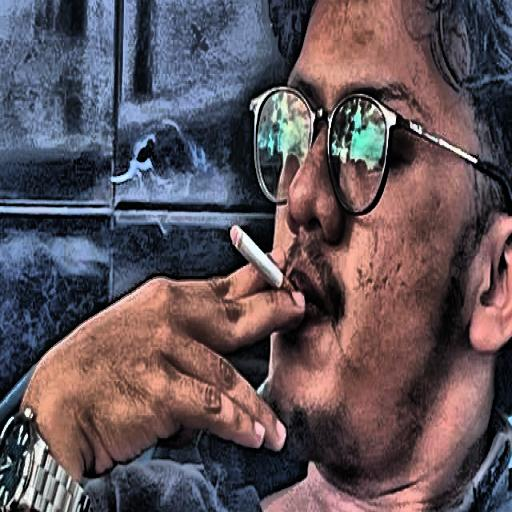Asbak: (231, 225, 291, 289)
Merokok: (0, 0, 512, 512)
